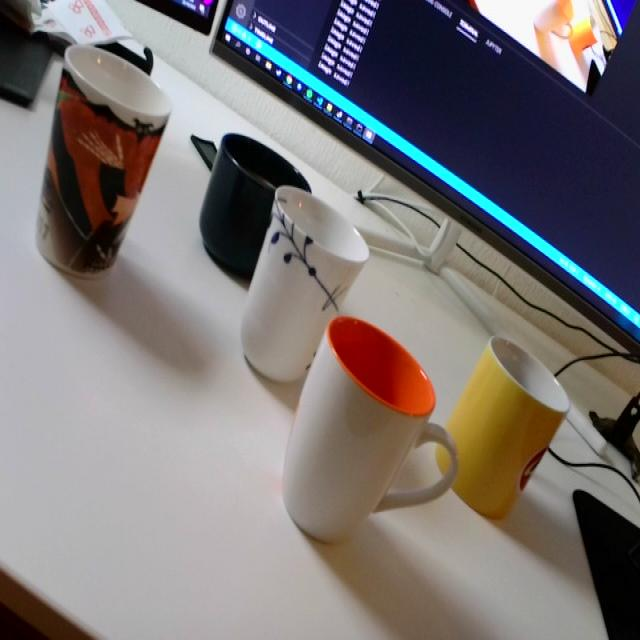Cocio Cup: (434, 332, 572, 521)
Cup: (197, 132, 310, 276)
Hand painted cup: (239, 185, 369, 379)
White Cup: (277, 311, 459, 544)
cup: (40, 41, 175, 281)
